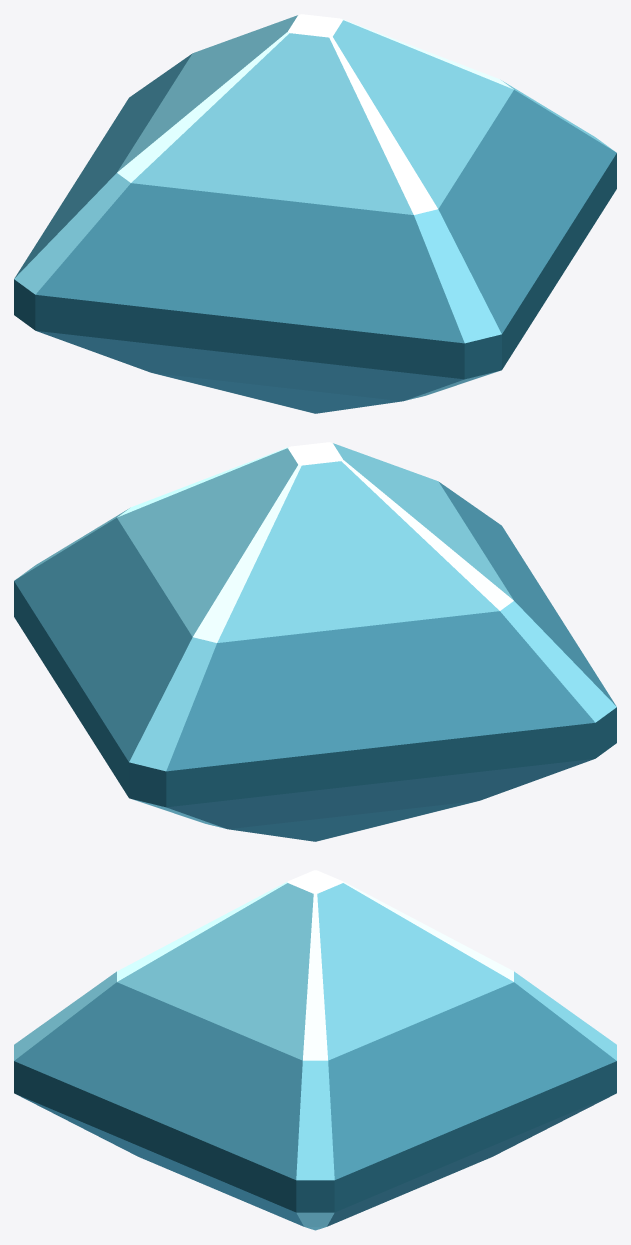
File: gem_pyramid_teal.glb
The picture shows the model from 3 angles, top to bottom: view 1: azimuth 30°, elevation 25°; view 2: azimuth 150°, elevation 25°; view 3: azimuth 270°, elevation 25°; orthographic projection. The views are drawn at different scales.
Visible parts, largest first — view 1: gem_pyramid_teal; view 2: gem_pyramid_teal; view 3: gem_pyramid_teal.
Boxes of the visible parts, x1,y1,x2,y2 form: gem_pyramid_teal: (14, 14, 616, 413); gem_pyramid_teal: (14, 442, 616, 841); gem_pyramid_teal: (14, 870, 616, 1230).
Size of the model in its own units: 11.84 by 7.55 by 11.84.
